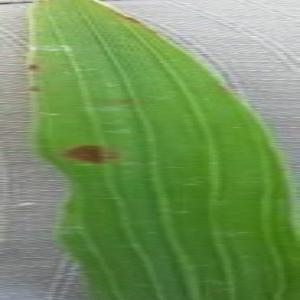Brown_Spot: (58, 135, 120, 169), (23, 61, 41, 75), (25, 83, 42, 95)
